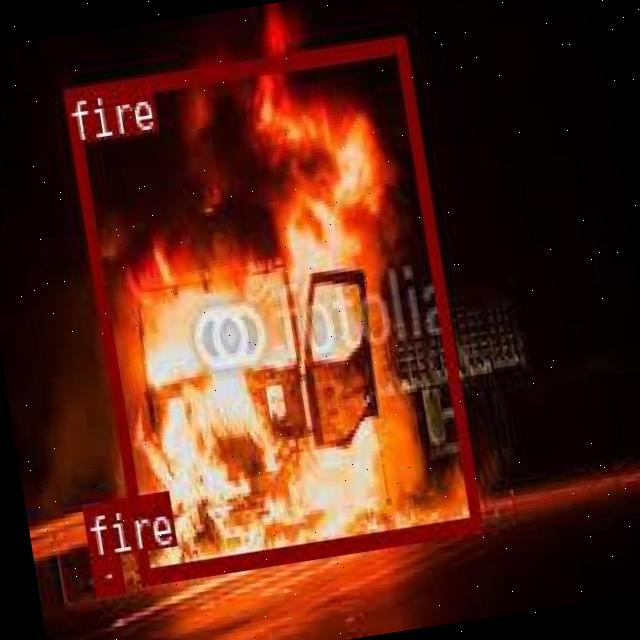fire: (63, 36, 481, 584), (89, 554, 122, 592)
